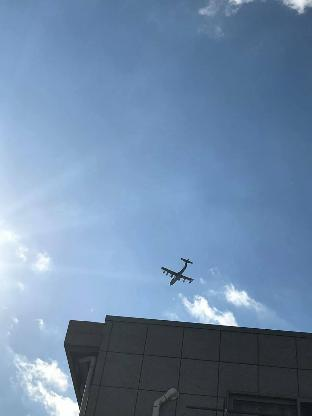Tu95: (161, 257, 193, 285)
